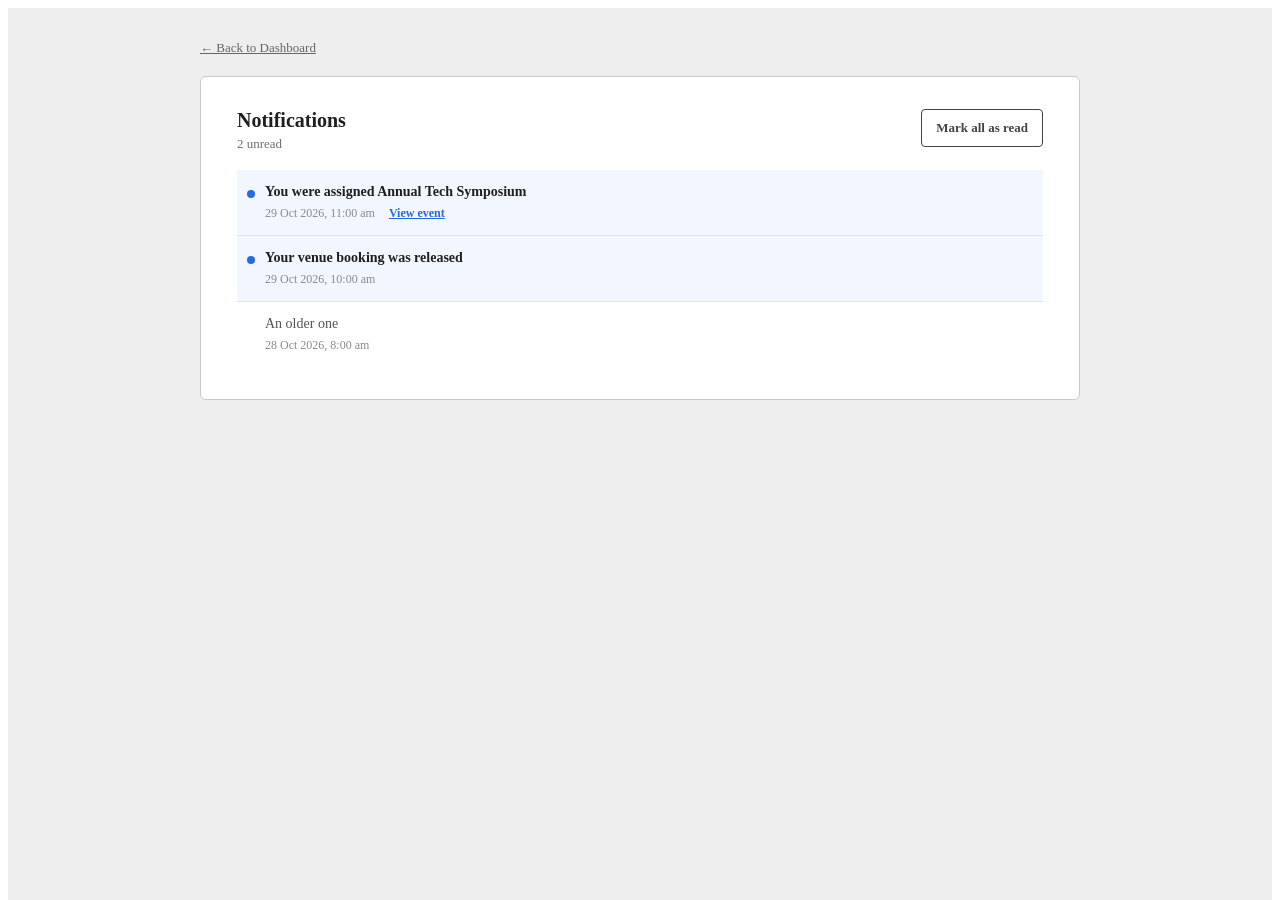
Test: NotificationsView › "Mark all as read" marks every one read and takes the count from the response
Click the button with test id "mark-all" at x=982, y=128, box [921,109,1043,147]
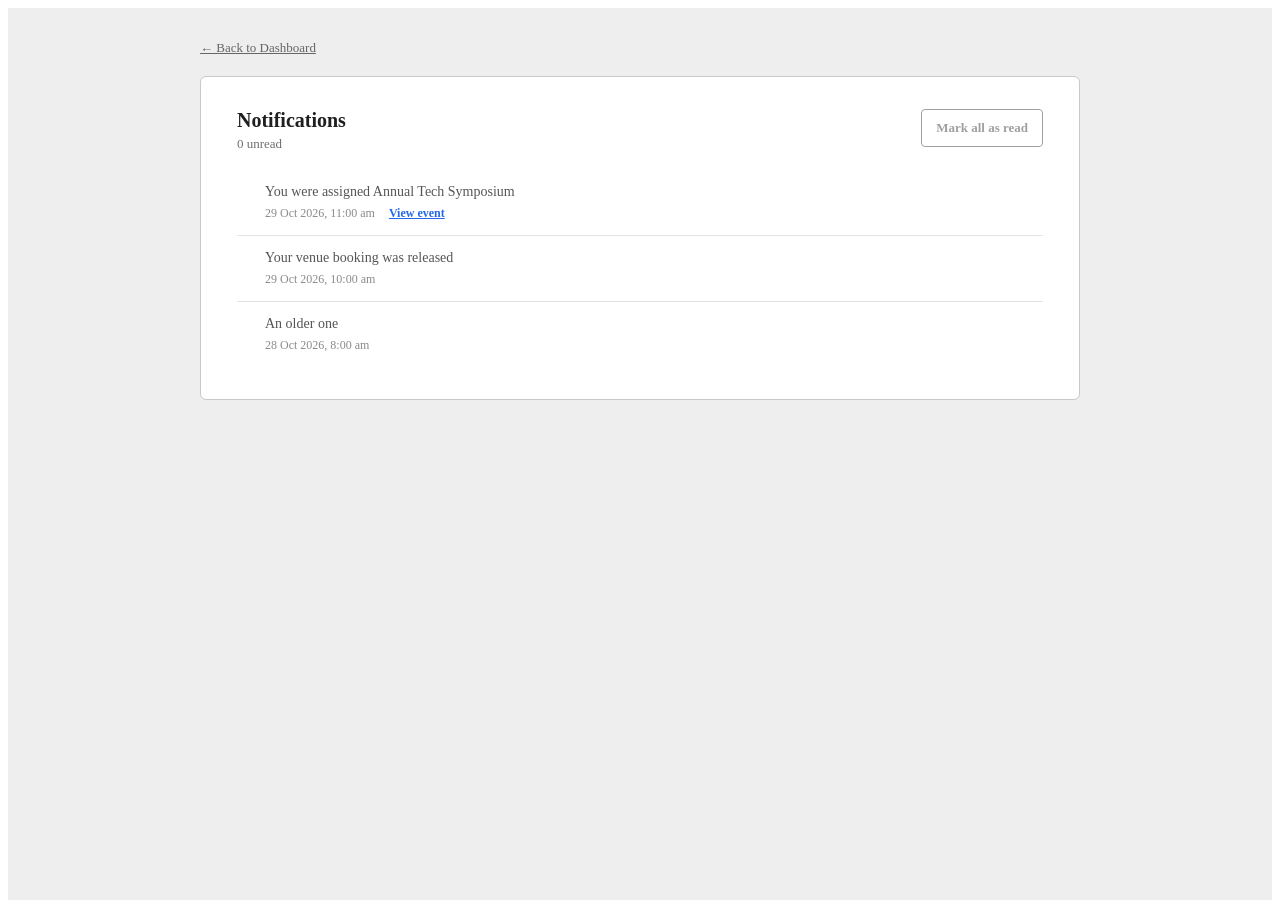
Now the text with test id "unread-summary" reads "0 unread", box [237,136,282,151]
Now the button with test id "mark-all" is disabled, box [921,109,1043,147]
